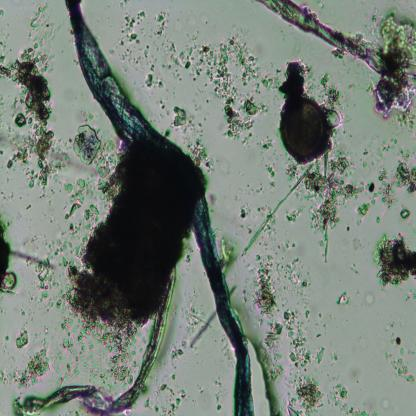Air bubble: (246, 337, 281, 416)
Background material: (58, 142, 207, 332), (0, 43, 63, 190), (248, 258, 312, 369), (296, 147, 351, 273), (240, 165, 310, 258), (172, 37, 235, 102), (223, 25, 277, 91), (73, 108, 122, 175), (293, 372, 365, 416), (171, 280, 214, 347), (55, 316, 94, 388), (367, 8, 416, 63), (95, 326, 136, 388), (143, 10, 171, 100), (374, 234, 416, 292), (224, 86, 266, 143), (374, 62, 416, 118), (0, 344, 51, 390), (378, 326, 416, 386), (377, 158, 416, 212), (62, 174, 96, 222), (0, 216, 20, 296), (319, 74, 347, 130), (28, 0, 57, 52), (145, 384, 190, 416), (32, 254, 58, 308), (283, 59, 313, 99), (120, 9, 145, 47), (172, 102, 201, 132), (188, 133, 212, 167), (354, 178, 379, 207), (217, 235, 236, 272), (116, 48, 143, 70), (395, 133, 416, 160), (393, 112, 415, 133), (355, 202, 373, 226), (257, 133, 277, 153), (374, 136, 393, 155), (362, 394, 378, 416), (285, 393, 300, 416), (398, 204, 415, 224), (46, 235, 61, 256), (312, 347, 328, 366), (16, 330, 32, 348), (205, 188, 217, 209), (237, 203, 251, 220), (380, 394, 392, 413), (364, 290, 376, 308), (212, 392, 224, 410), (285, 165, 299, 180), (23, 234, 39, 247), (168, 345, 180, 361), (338, 292, 350, 308), (347, 80, 362, 92), (0, 190, 15, 201), (365, 79, 376, 94), (353, 237, 363, 252), (403, 290, 416, 300), (330, 350, 340, 363), (350, 262, 359, 276), (386, 319, 396, 330), (360, 160, 368, 171), (119, 0, 129, 8), (354, 287, 362, 297), (108, 45, 115, 56), (18, 308, 26, 317), (370, 158, 376, 168), (0, 3, 4, 18), (4, 334, 12, 341), (374, 214, 379, 224), (409, 231, 416, 238), (26, 203, 32, 211), (362, 148, 368, 156), (40, 193, 46, 198), (346, 226, 351, 232), (166, 130, 170, 137), (51, 219, 52, 223)
Cellulose filter fibre: (15, 271, 180, 416), (257, 0, 416, 81)
Cotton: (64, 0, 249, 416)
Diatom: (280, 92, 329, 165)
